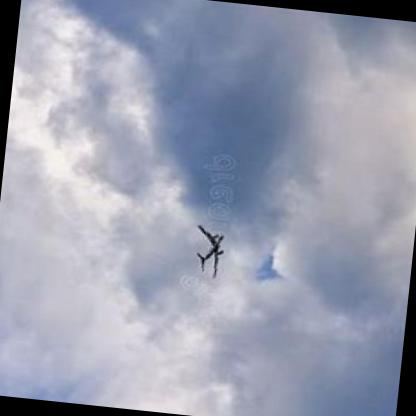plane: (183, 219, 239, 282)
